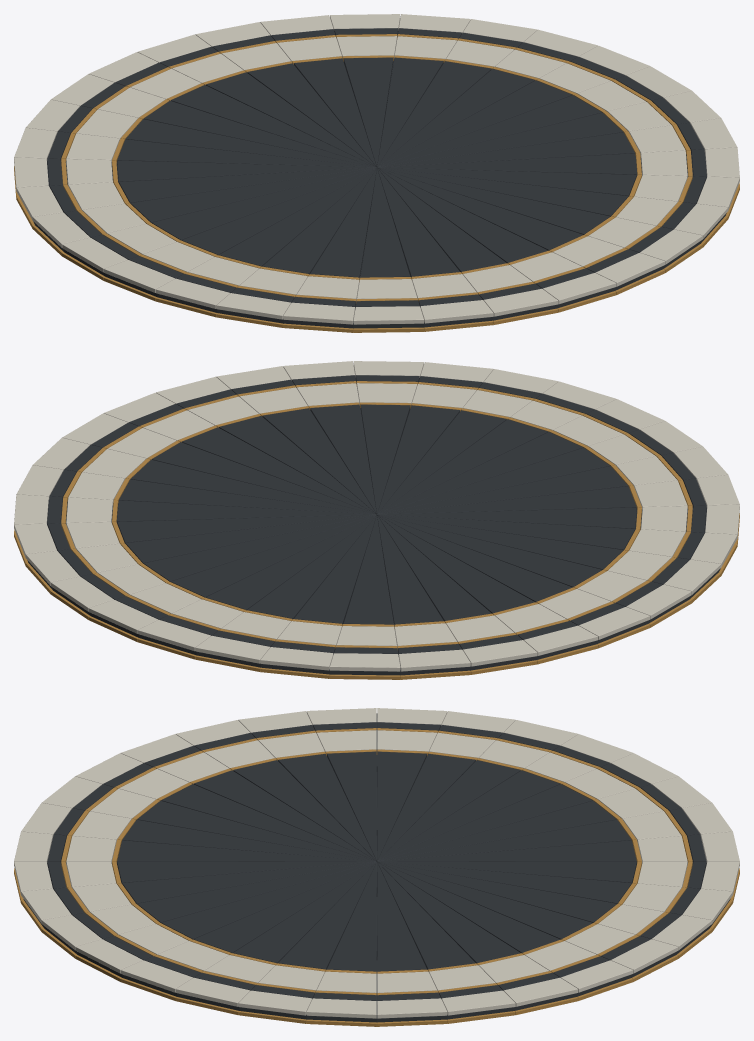
The model's file is SM_Aurelion_KIT_Z10CrownmarkDais.fbx.
3 views of the same model, one above another, from view 1: azimuth 30°, elevation 25°; view 2: azimuth 150°, elevation 25°; view 3: azimuth 270°, elevation 25° (orthographic).
Visible parts, largest first — view 1: SM_Aurelion_KIT_Z10CrownmarkDais; view 2: SM_Aurelion_KIT_Z10CrownmarkDais; view 3: SM_Aurelion_KIT_Z10CrownmarkDais.
Part boxes in pixels (box(x1,y1,x2,y2)): SM_Aurelion_KIT_Z10CrownmarkDais: box(14, 14, 739, 332); SM_Aurelion_KIT_Z10CrownmarkDais: box(14, 361, 739, 679); SM_Aurelion_KIT_Z10CrownmarkDais: box(14, 708, 739, 1026).
Size of the model in its own units: 1000 by 1000 by 20.
